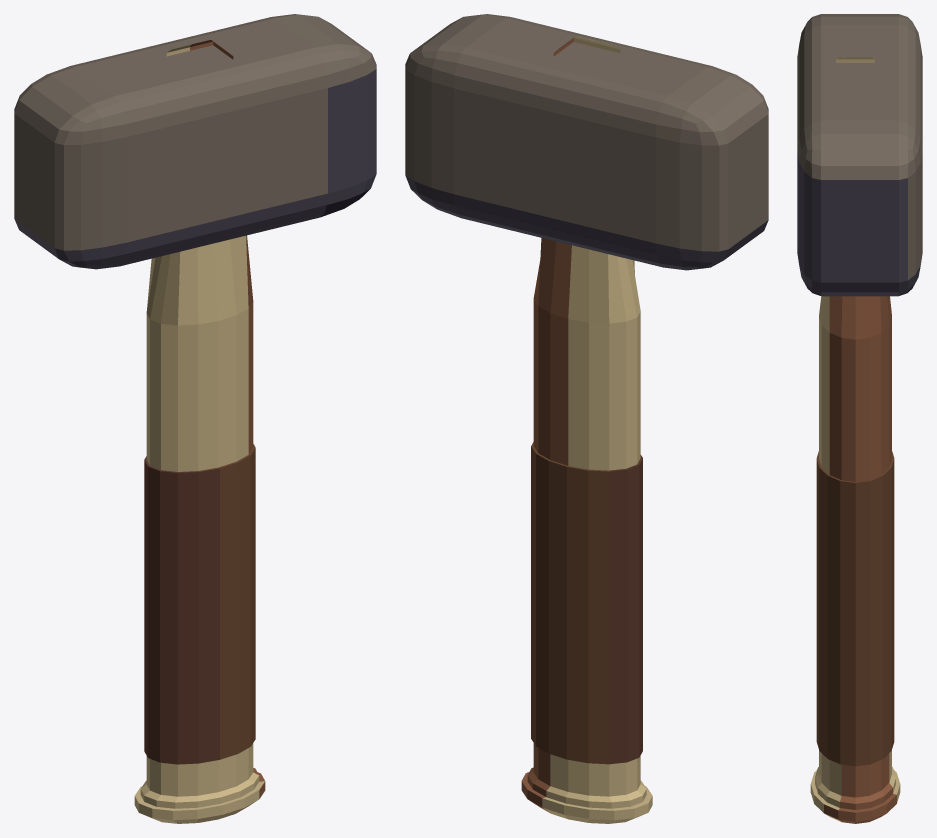
The model's file is metal_hammer.glb.
3 views of the same model, side by side, from view 1: azimuth 30°, elevation 25°; view 2: azimuth 150°, elevation 25°; view 3: azimuth 270°, elevation 25° (orthographic). The views are drawn at different scales.
Parts seen in each view (by area): view 1: MetalHammer; view 2: MetalHammer; view 3: MetalHammer.
Boxes of the visible parts, x1,y1,x2,y2 form: MetalHammer: [14, 14, 376, 823]; MetalHammer: [405, 14, 768, 823]; MetalHammer: [797, 14, 922, 823].
Bounding box in the file's own units: 0.1998 × 0.45 × 0.0691.
